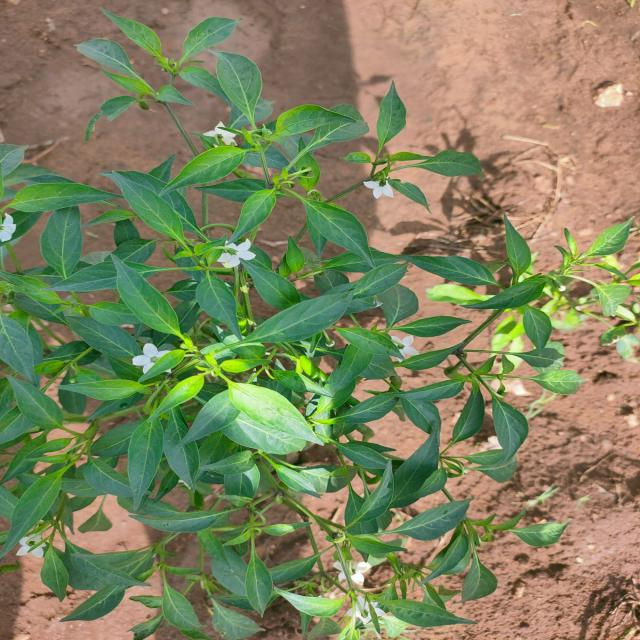Mosaic_virus: (5, 17, 640, 640)
